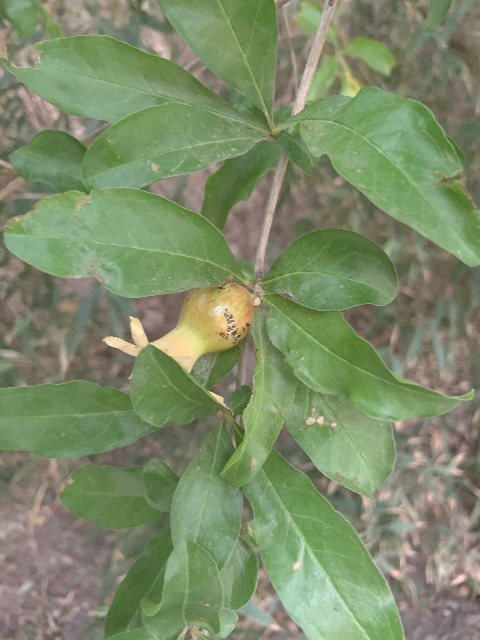early-fruit: (101, 283, 253, 375)
